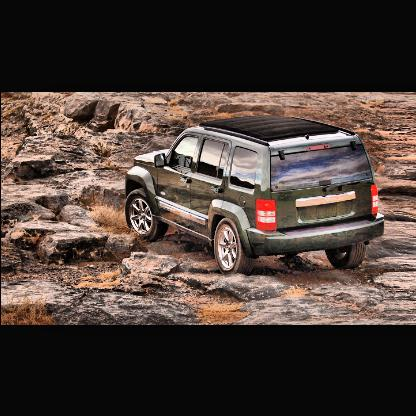Jeep Liberty SUV 2012: (124, 113, 388, 277)
